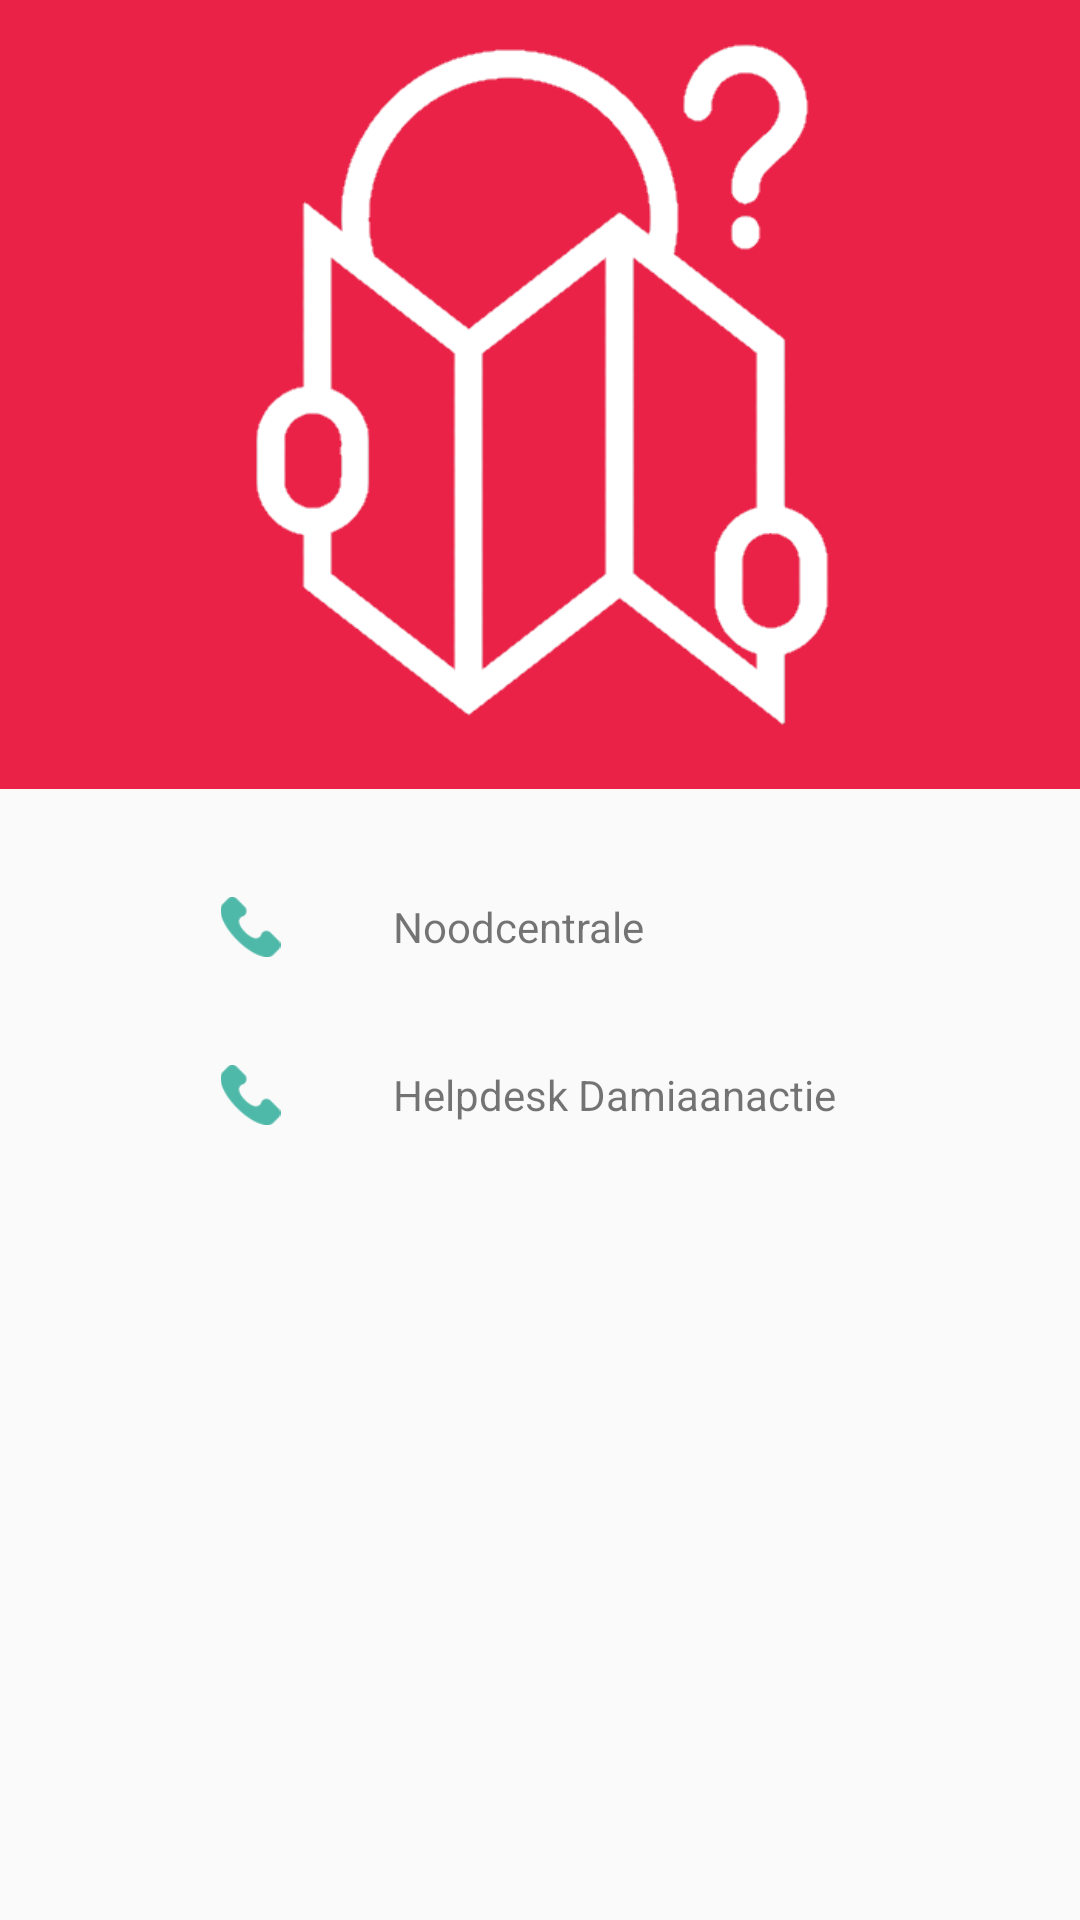

Named icons in this screenshot (1080 x 1920) and their centers, (x,y):
phone call: (251,927), (251,1095)
